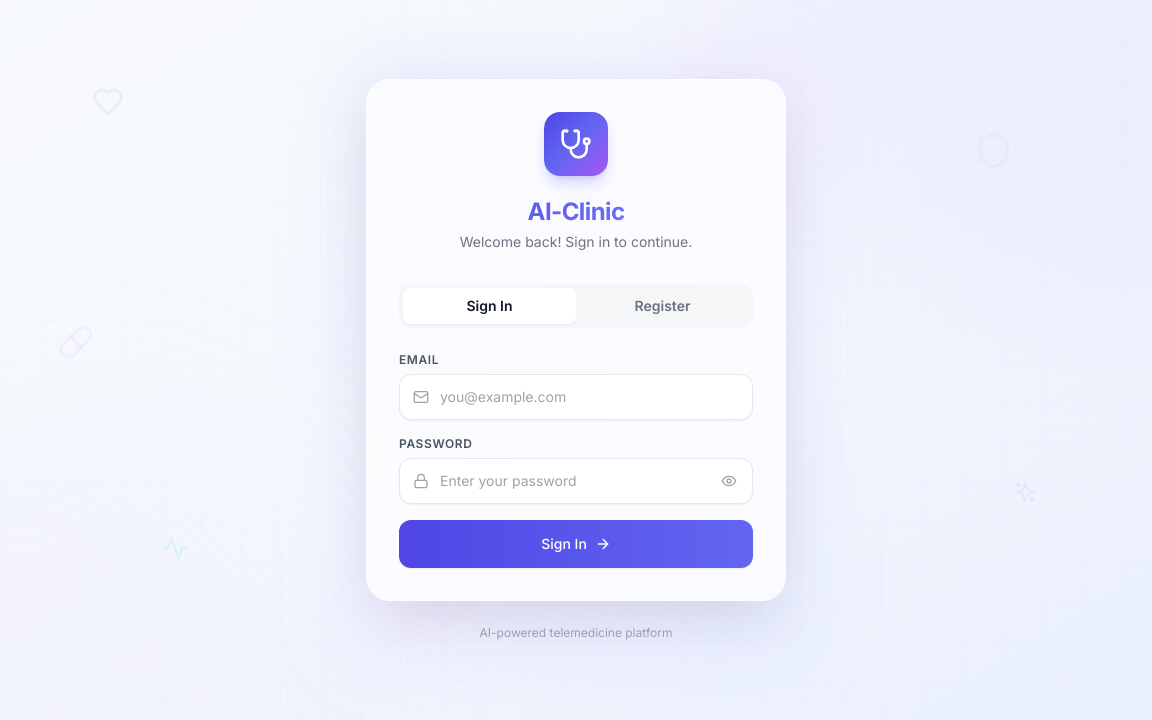
Test: Password strength indicator › should show "Fair" for passwords not meeting server minimum
Click the button "Register": (662, 306) [576,288,749,324]
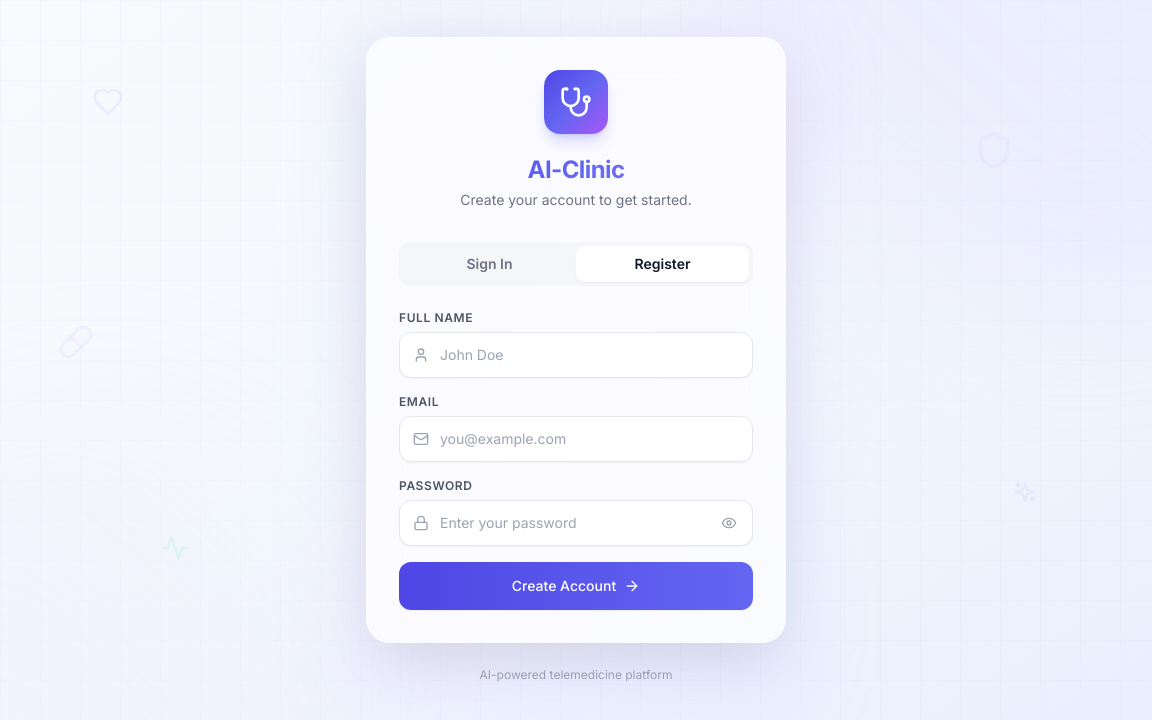
In the password field labelled "Password": (576, 523) [399,500,753,546], type "abcdef"
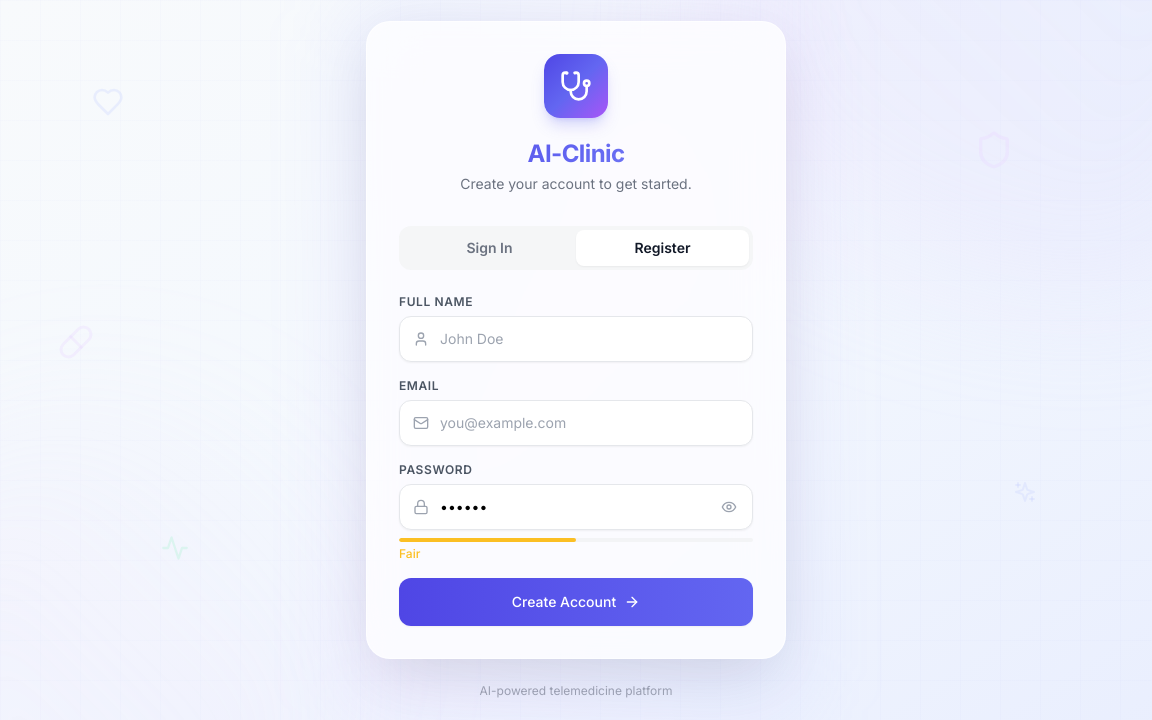
Expected: the text "Fair" is shown, [399,546,420,561]
